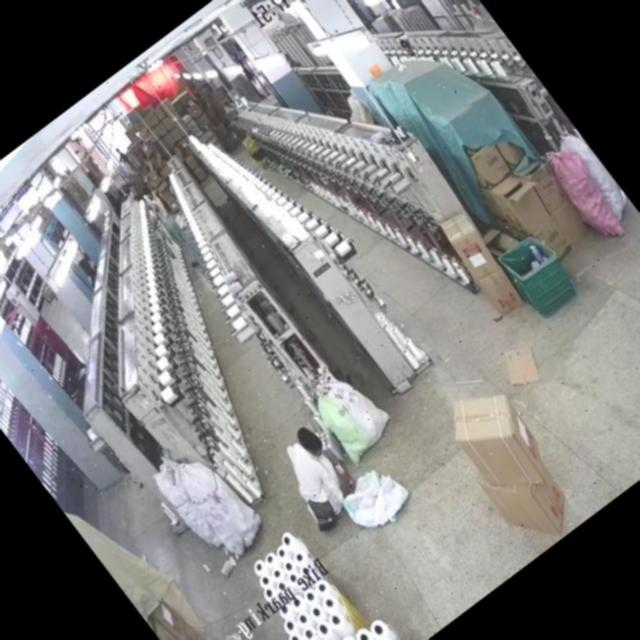person: (268, 427, 370, 541), (134, 182, 209, 272)
